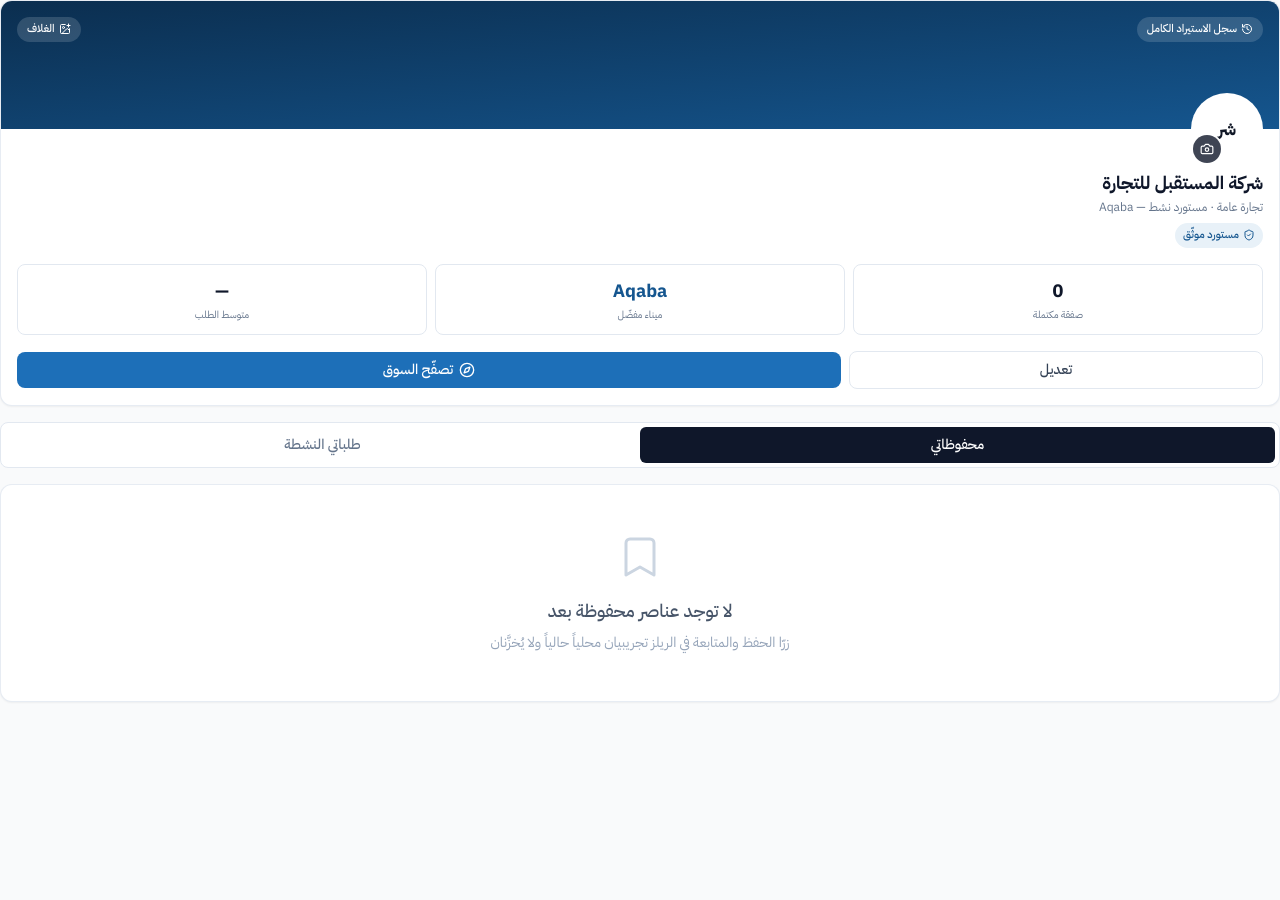
Scenario: ClientProfileMobile › switches to 'طلباتي النشطة' and lists the real open RFQ with a StatusPill
Check: the heading "شركة المستقبل للتجارة" is shown, box [1102,169,1263,196]
Click the button "طلباتي النشطة" at (322, 445), box [5,427,640,463]
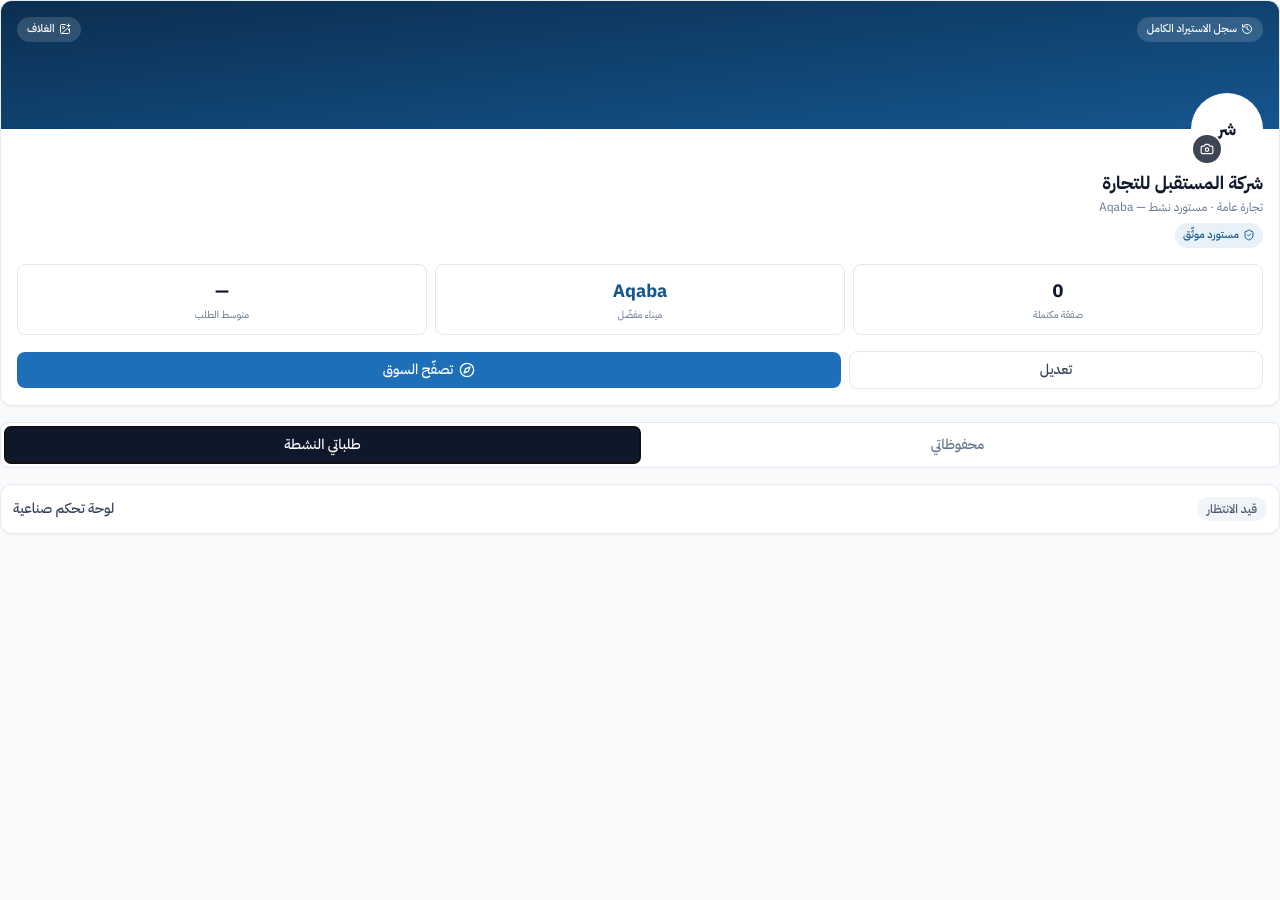
Check: the text "لوحة تحكم صناعية" is shown, box [13,499,114,519]
Check: the text "قيد الانتظار" is shown, box [1197,497,1267,521]
